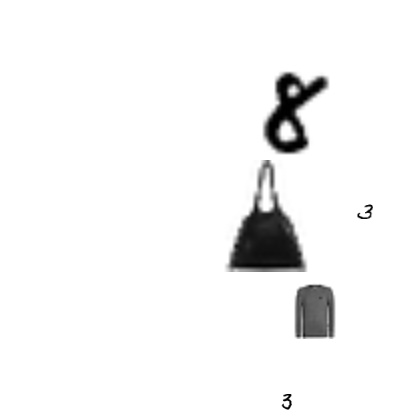3: (355, 201, 377, 223), (276, 390, 298, 412)
8: (232, 53, 344, 165)
Bag: (210, 160, 322, 272)
Pullover: (287, 283, 343, 339)
